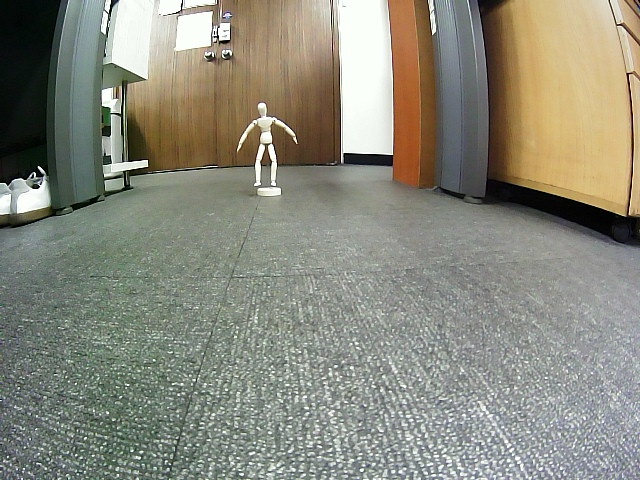person: (237, 101, 299, 188)
